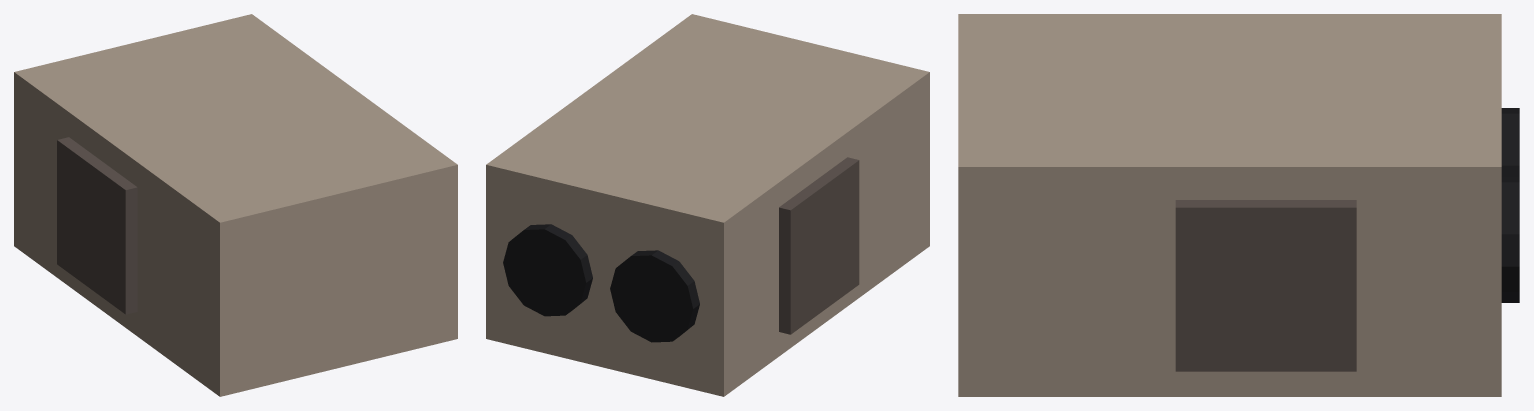
Rendered from vge_hunter_pod.obj.
3 renders of one model, left to right at view 1: azimuth 30°, elevation 25°; view 2: azimuth 150°, elevation 25°; view 3: azimuth 270°, elevation 25°, orthographic. The views are drawn at different scales.
Visible parts, largest first — view 1: vge_hunter_pod_0, vge_hunter_pod_1; view 2: vge_hunter_pod_0, vge_hunter_pod_1, vge_hunter_pod_2, vge_hunter_pod_3; view 3: vge_hunter_pod_0, vge_hunter_pod_1, vge_hunter_pod_3, vge_hunter_pod_2.
Part boxes in pixels (x1=…): vge_hunter_pod_0: x1=14, y1=14, x2=457, y2=396; vge_hunter_pod_1: x1=57, y1=137, x2=137, y2=314; vge_hunter_pod_0: x1=486, y1=14, x2=929, y2=396; vge_hunter_pod_1: x1=779, y1=157, x2=859, y2=334; vge_hunter_pod_2: x1=610, y1=250, x2=699, y2=342; vge_hunter_pod_3: x1=503, y1=224, x2=592, y2=316; vge_hunter_pod_0: x1=958, y1=14, x2=1501, y2=396; vge_hunter_pod_1: x1=1175, y1=200, x2=1356, y2=371; vge_hunter_pod_3: x1=1501, y1=176, x2=1519, y2=302; vge_hunter_pod_2: x1=1501, y1=108, x2=1519, y2=176.
Bounding box in the file's own units: 0.22 × 0.14 × 0.31.
